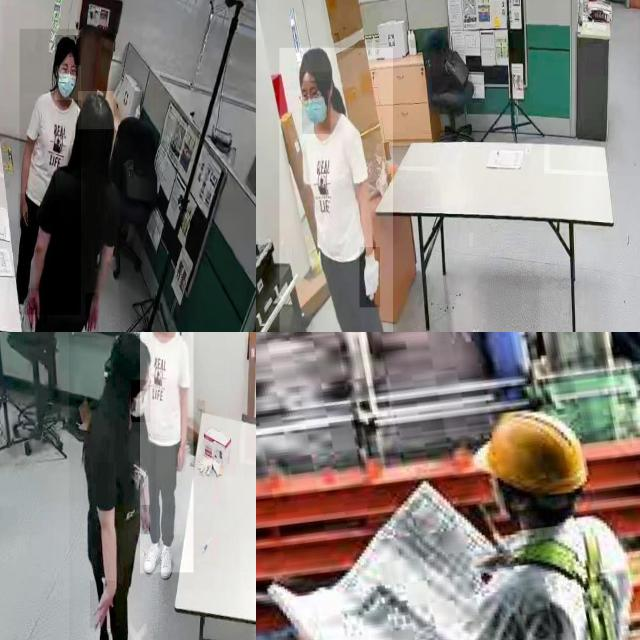Harness: (516, 527, 625, 640)
face_mask: (302, 81, 330, 134), (55, 65, 81, 100), (131, 380, 151, 422)
glasses: (298, 86, 324, 109)
hand_glove: (360, 247, 380, 308)
hand_noglove: (90, 580, 116, 630), (25, 288, 41, 330), (85, 292, 98, 332), (18, 193, 29, 229), (176, 444, 187, 472), (141, 505, 151, 535)
head_nohelmet: (109, 332, 151, 371), (78, 91, 114, 130), (298, 46, 332, 73), (55, 35, 79, 58)
person: (279, 47, 393, 332), (69, 332, 156, 640), (20, 93, 120, 332), (19, 29, 81, 315), (140, 332, 194, 573)
shoes: (140, 535, 162, 578), (158, 538, 175, 581)
